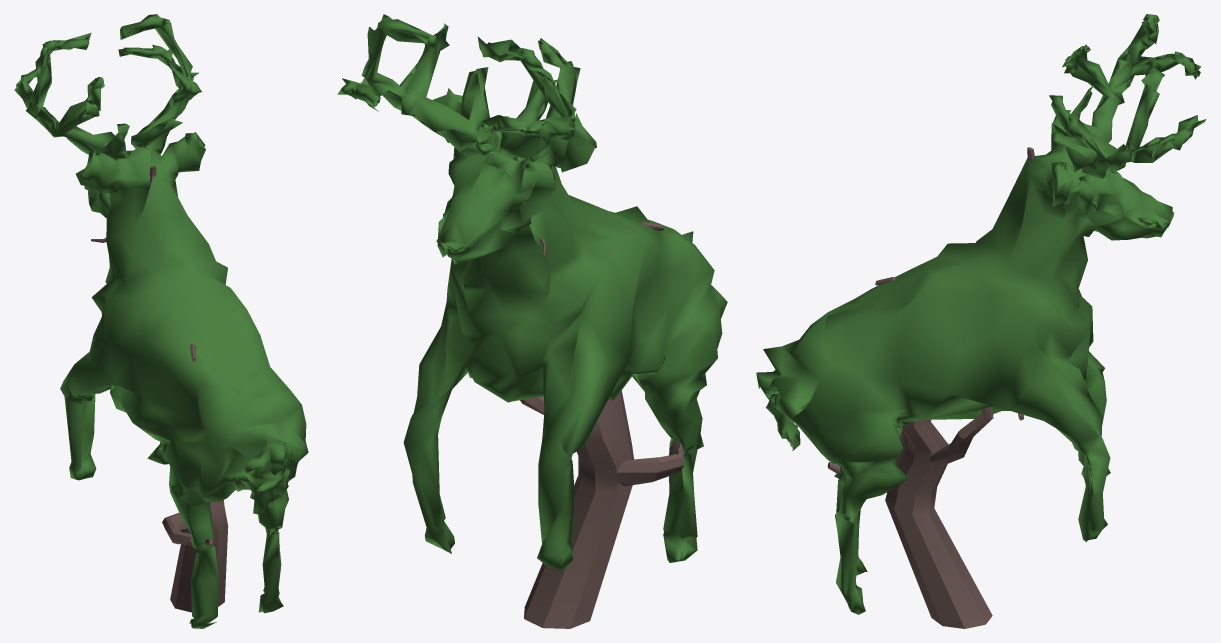
The model's file is decotree1.fbx.
3 views of the same model, side by side, from view 1: azimuth 30°, elevation 25°; view 2: azimuth 150°, elevation 25°; view 3: azimuth 270°, elevation 25° (orthographic). The views are drawn at different scales.
Visible parts, largest first — view 1: Leaves, Trunk.001; view 2: Leaves, Trunk.001; view 3: Leaves, Trunk.001.
Boxes of the visible parts, box(x1,y1,x2,y2) form: Leaves: box(14, 14, 308, 628); Trunk.001: box(91, 166, 245, 612); Leaves: box(337, 14, 727, 572); Trunk.001: box(520, 221, 685, 628); Leaves: box(756, 14, 1206, 614); Trunk.001: box(827, 147, 1034, 628).
Bounding box in the file's own units: 0.4665 × 1.37 × 0.9777.
